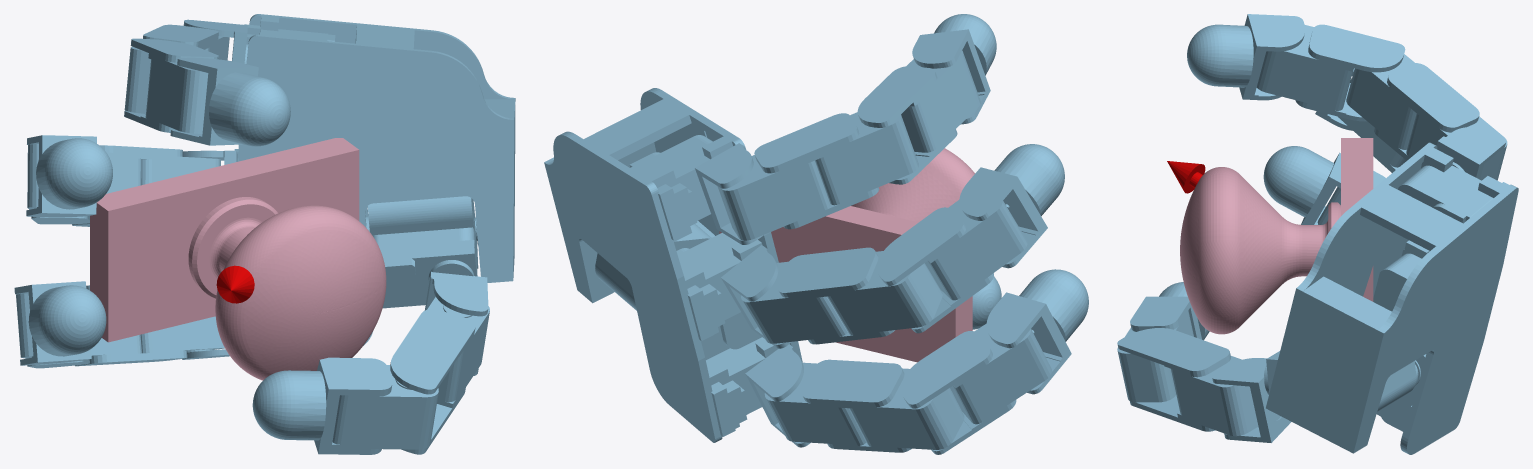
The picture shows the model from 3 angles, left to right: view 1: azimuth 30°, elevation 25°; view 2: azimuth 150°, elevation 25°; view 3: azimuth 270°, elevation 25°; orthographic projection. The views are drawn at different scales.
Parts seen in each view (by area): view 1: world, door_knob.stl; view 2: world, door_knob.stl; view 3: world, door_knob.stl.
Part boxes in pixels (x1=…): world: x1=14, y1=14, x2=515, y2=454; door_knob.stl: x1=90, y1=138, x2=386, y2=380; world: x1=544, y1=14, x2=1088, y2=454; door_knob.stl: x1=719, y1=148, x2=974, y2=362; world: x1=1117, y1=14, x2=1518, y2=454; door_knob.stl: x1=1180, y1=138, x2=1373, y2=334.
Size of the model in its own units: 0.2087 by 0.149 by 0.1558.
